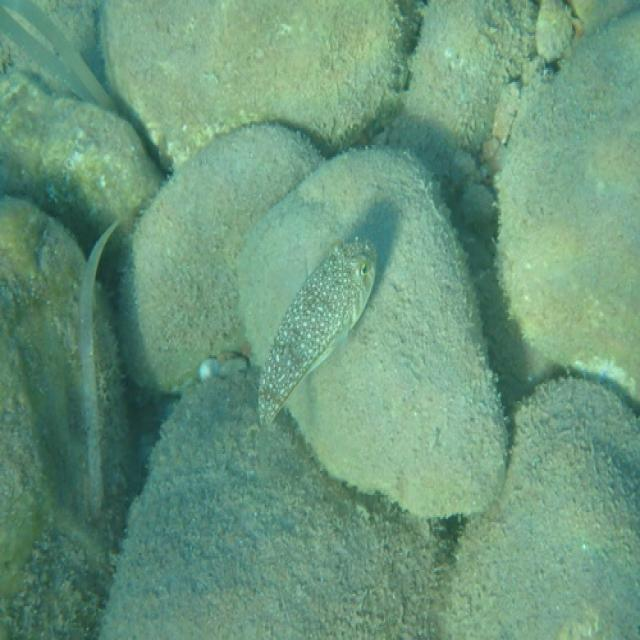Balik: (259, 239, 376, 424)
